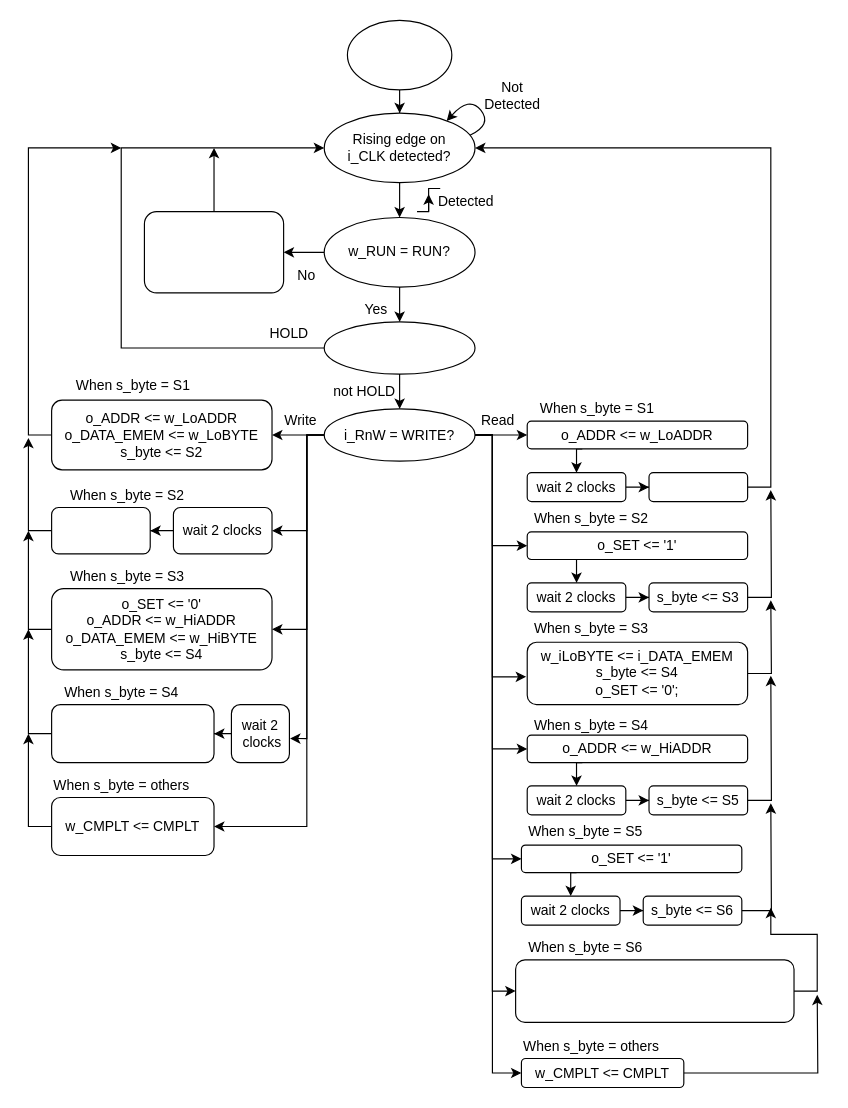
This 848x1108 diagram has some shape labels left out. Here are the shapes that lost their labels. From the top down, the box of each, then its label:
(346, 19, 452, 90): Start
(143, 211, 284, 293): w_CMPLT <= '0' o_SET <= '0' s_byte <= S1 v_Count := 0
(323, 321, 475, 374): i_HOLD /= HOLD?
(648, 472, 748, 502): s_byte <= S2
(50, 506, 150, 554): o_SET <= '1' s_byte <= S3
(50, 704, 214, 763): o_SET <= '1' s_byte <= SEQ_CMPLT w_CMPLT <= CMPLT
(514, 959, 794, 1022): o_DATA <= i_DATA_EMEM & w_iLoBYTE s_BYTE <= SEQ_CMPLT w_CMPLT <= CMPLT
